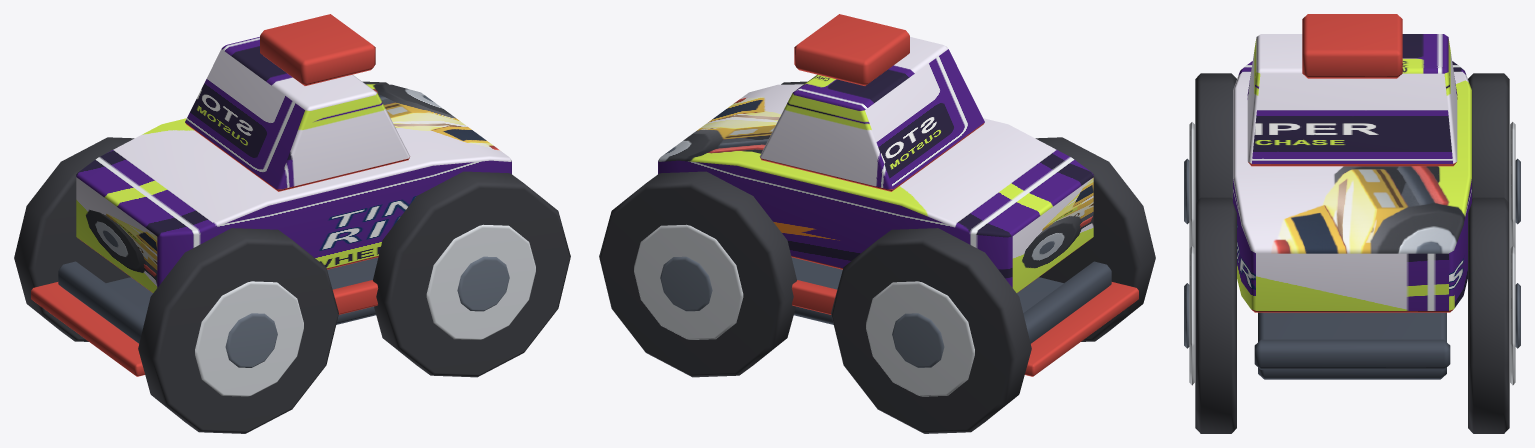
3 views of the same model, side by side, from view 1: azimuth 30°, elevation 25°; view 2: azimuth 150°, elevation 25°; view 3: azimuth 270°, elevation 25° (orthographic). The views are drawn at different scales.
Parts seen in each view (by area): view 1: BW-03_connected_shell, Tire, Tire.002, BW-03_cabin, Tire.001, Rim.002, Rim, custom equipment, custom chin, front bumper, Hub.002, Hub (+2 smaller); view 2: BW-03_connected_shell, Tire.001, Tire.003, BW-03_cabin, Tire, Rim.003, Rim.001, custom equipment, custom chin, front bumper, Hub.003, Hub.001 (+2 smaller); view 3: BW-03_connected_shell, BW-03_cabin, Tire.002, Tire.003, underbody, custom equipment, rear bumper, Tire, Tire.001, Rim.002, Rim.003, Rim (+5 smaller).
Part boxes in pixels (x1,y1,x2,y2): BW-03_connected_shell: [76, 84, 511, 292]; Tire: [138, 228, 338, 433]; Tire.002: [373, 171, 570, 377]; BW-03_cabin: [185, 37, 410, 191]; Tire.001: [14, 137, 134, 341]; Rim.002: [426, 224, 535, 339]; Rim: [195, 281, 303, 396]; custom equipment: [260, 14, 375, 85]; custom chin: [31, 282, 144, 376]; front bumper: [58, 261, 146, 343]; Hub.002: [457, 256, 509, 311]; Hub: [225, 313, 277, 367]; BW-03_connected_shell: [658, 84, 1093, 292]; Tire.001: [831, 228, 1031, 433]; Tire.003: [599, 171, 796, 377]; BW-03_cabin: [759, 37, 984, 191]; Tire: [1035, 137, 1155, 341]; Rim.003: [634, 224, 743, 339]; Rim.001: [866, 281, 974, 396]; custom equipment: [794, 14, 909, 85]; custom chin: [1025, 282, 1138, 376]; front bumper: [1023, 261, 1111, 343]; Hub.003: [660, 256, 712, 311]; Hub.001: [892, 313, 944, 367]; BW-03_connected_shell: [1233, 61, 1471, 312]; BW-03_cabin: [1247, 34, 1457, 166]; Tire.002: [1195, 197, 1236, 433]; Tire.003: [1468, 197, 1509, 433]; underbody: [1258, 312, 1446, 379]; custom equipment: [1302, 14, 1402, 78]; rear bumper: [1254, 339, 1450, 369]; Tire: [1195, 73, 1236, 202]; Tire.001: [1468, 73, 1509, 202]; Rim.002: [1189, 246, 1194, 385]; Rim.003: [1510, 246, 1515, 385]; Rim: [1189, 122, 1194, 248].
Bounding box in the file's own units: 332 × 236 × 210.
